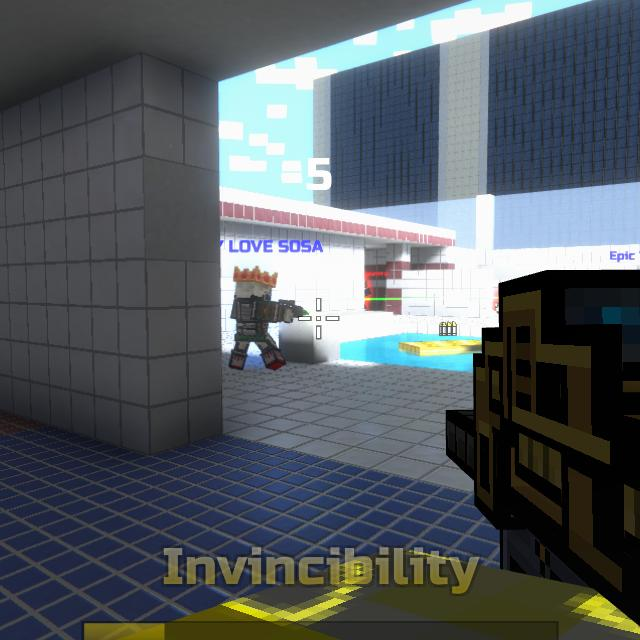Enemy: (364, 279, 372, 311)
